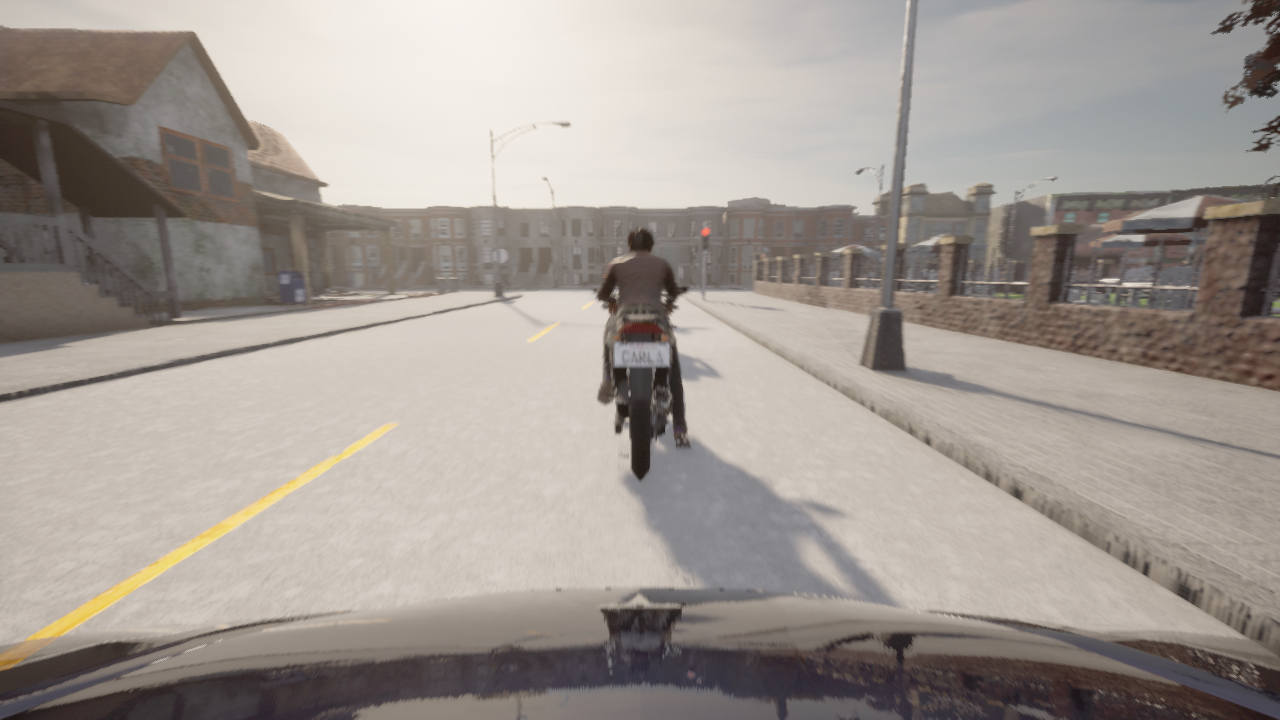cyclist: (0, 588, 1279, 719), (591, 286, 689, 480)
